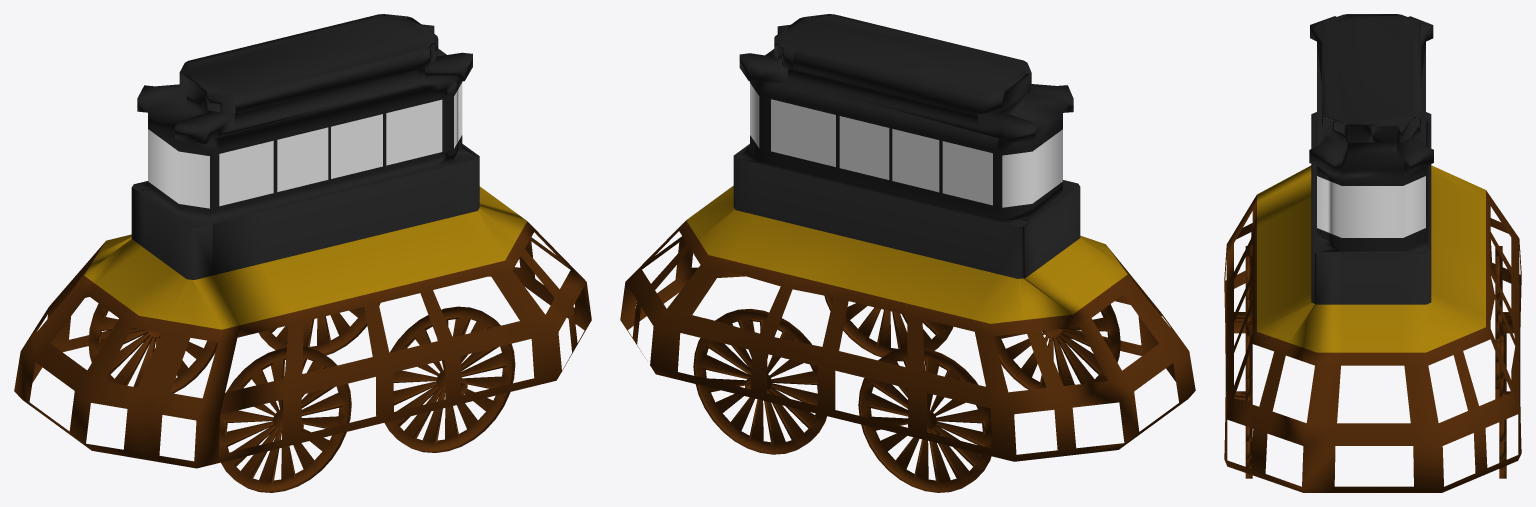
Rendered from Float_Bier.gltf.
The picture shows the model from 3 angles, left to right: view 1: azimuth 30°, elevation 25°; view 2: azimuth 150°, elevation 25°; view 3: azimuth 270°, elevation 25°; orthographic projection.
Visible parts, largest first — view 1: Window; view 2: Window; view 3: Window.
Part boxes in pixels (x1,y1,x2,y2): Window: (14, 14, 591, 492); Window: (620, 14, 1195, 492); Window: (1224, 14, 1521, 492).
Size of the model in its own units: 15.98 by 11.09 by 8.2.
